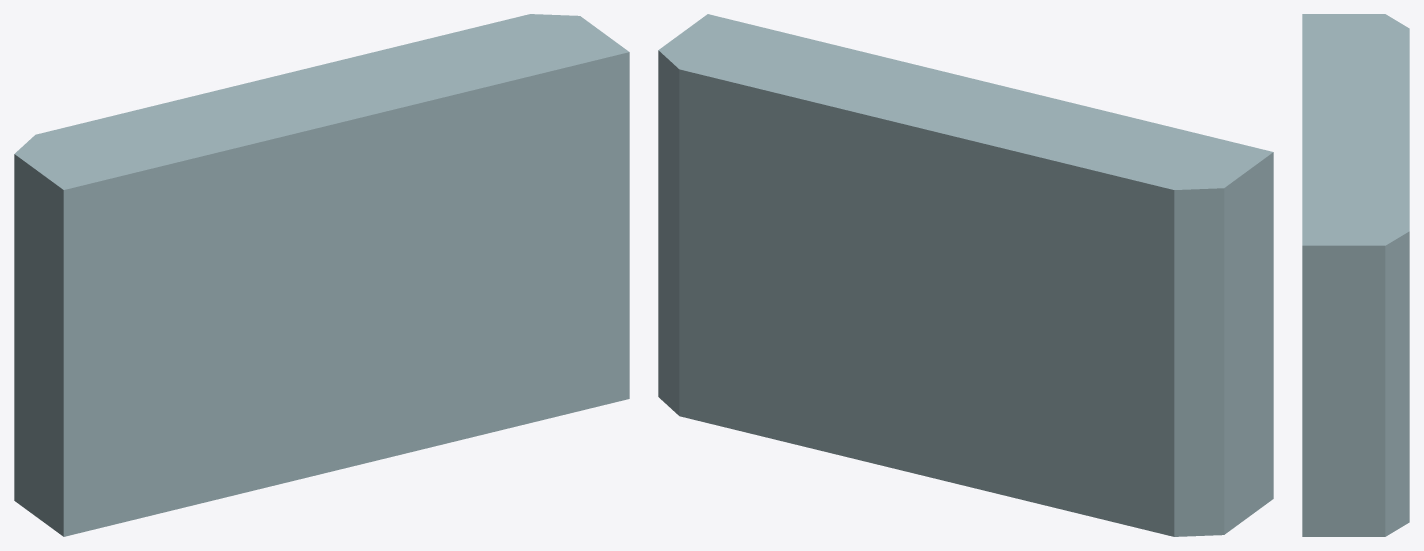
Rendered from de_ice_2.fbx.
The picture shows the model from 3 angles, left to right: view 1: azimuth 30°, elevation 25°; view 2: azimuth 150°, elevation 25°; view 3: azimuth 270°, elevation 25°; orthographic projection. The views are drawn at different scales.
Parts seen in each view (by area): view 1: Cube.320; view 2: Cube.320; view 3: Cube.320.
Boxes of the visible parts, x1,y1,x2,y2 form: Cube.320: (14, 14, 629, 536); Cube.320: (658, 14, 1273, 536); Cube.320: (1302, 14, 1409, 536).
Bounding box in the file's own units: 529 × 310 × 103.
